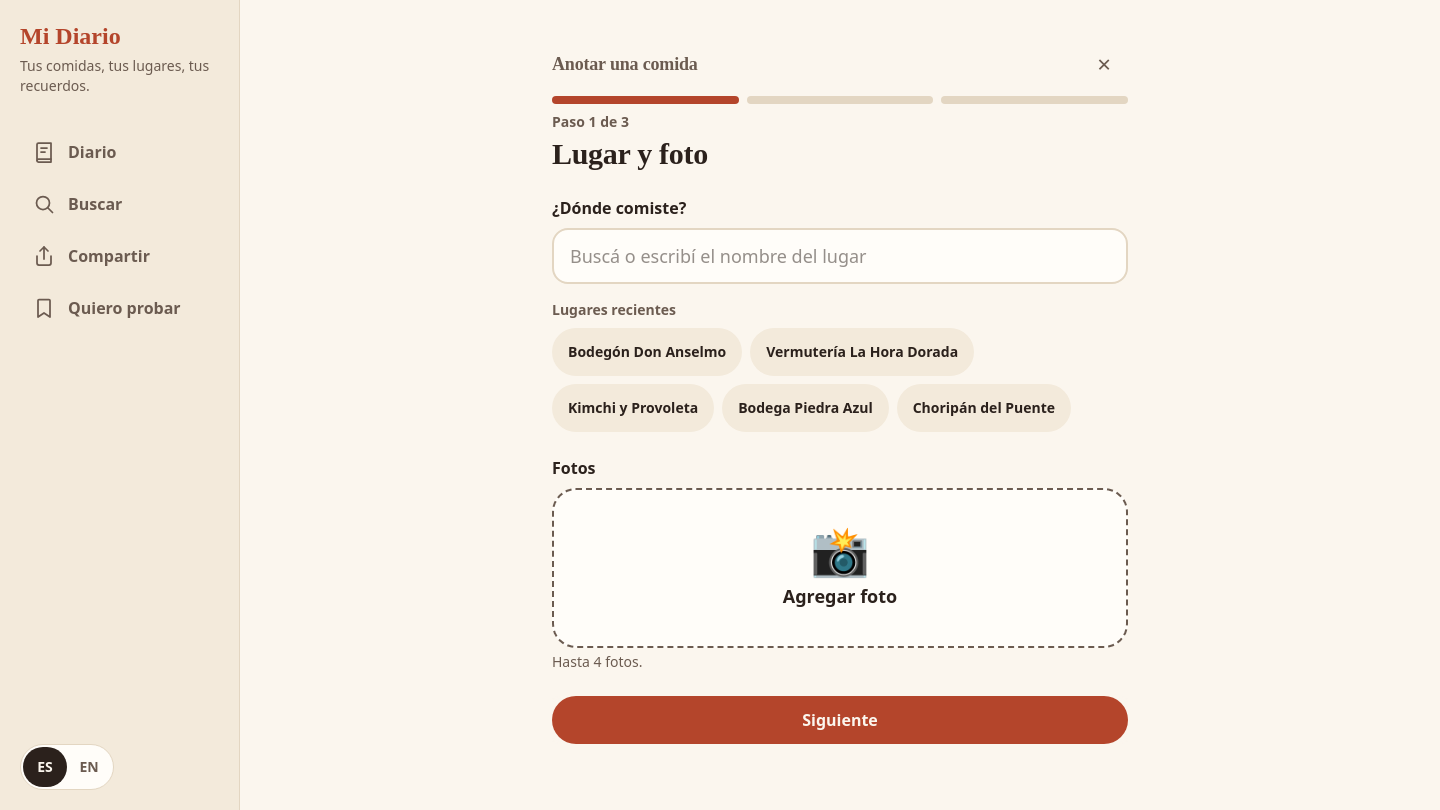
Test: quick log › logs a meal in the minimum number of steps: place, reaction, save
Click the button "Vermutería La Hora Dorada" at (862, 352), box [750,328,974,376]
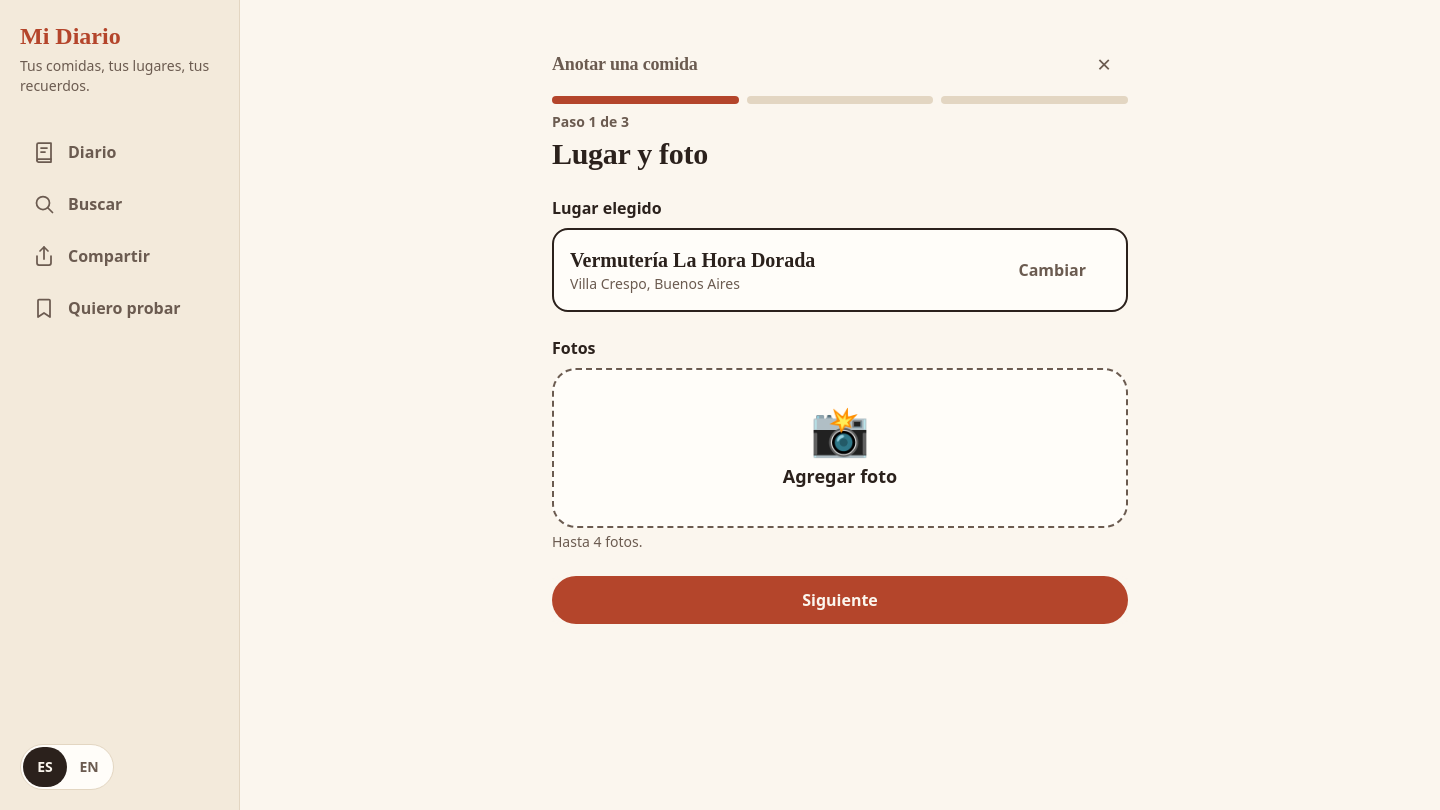
Expected: the text "Lugar elegido" is shown, [552,197,662,219]
Click the button "Siguiente" at (840, 600), box [552,576,1128,624]
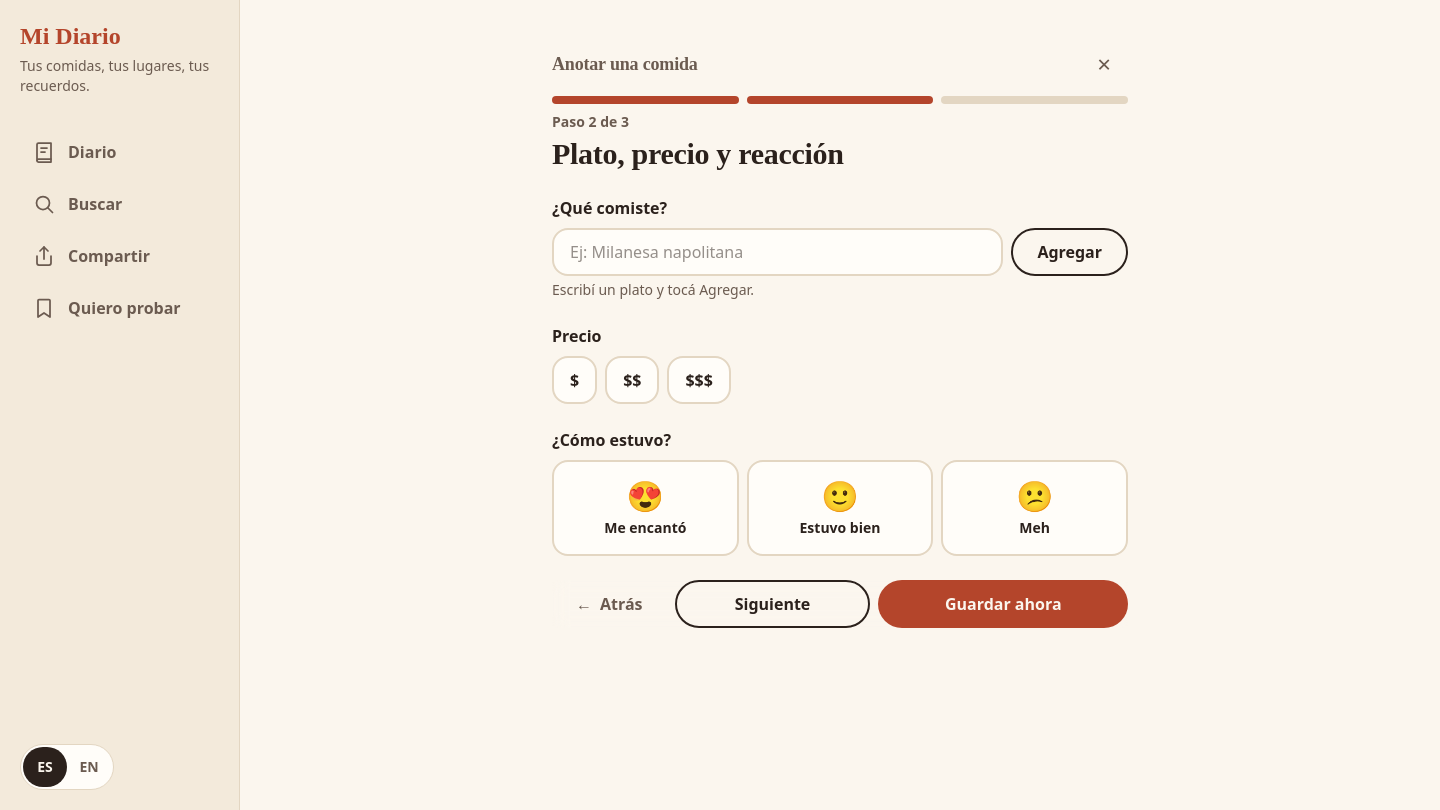
Expected: the heading "Plato, precio y reacción" is shown, [552,137,844,170]
Click the button "😍 Me encantó" at (645, 508), box [552,460,739,556]
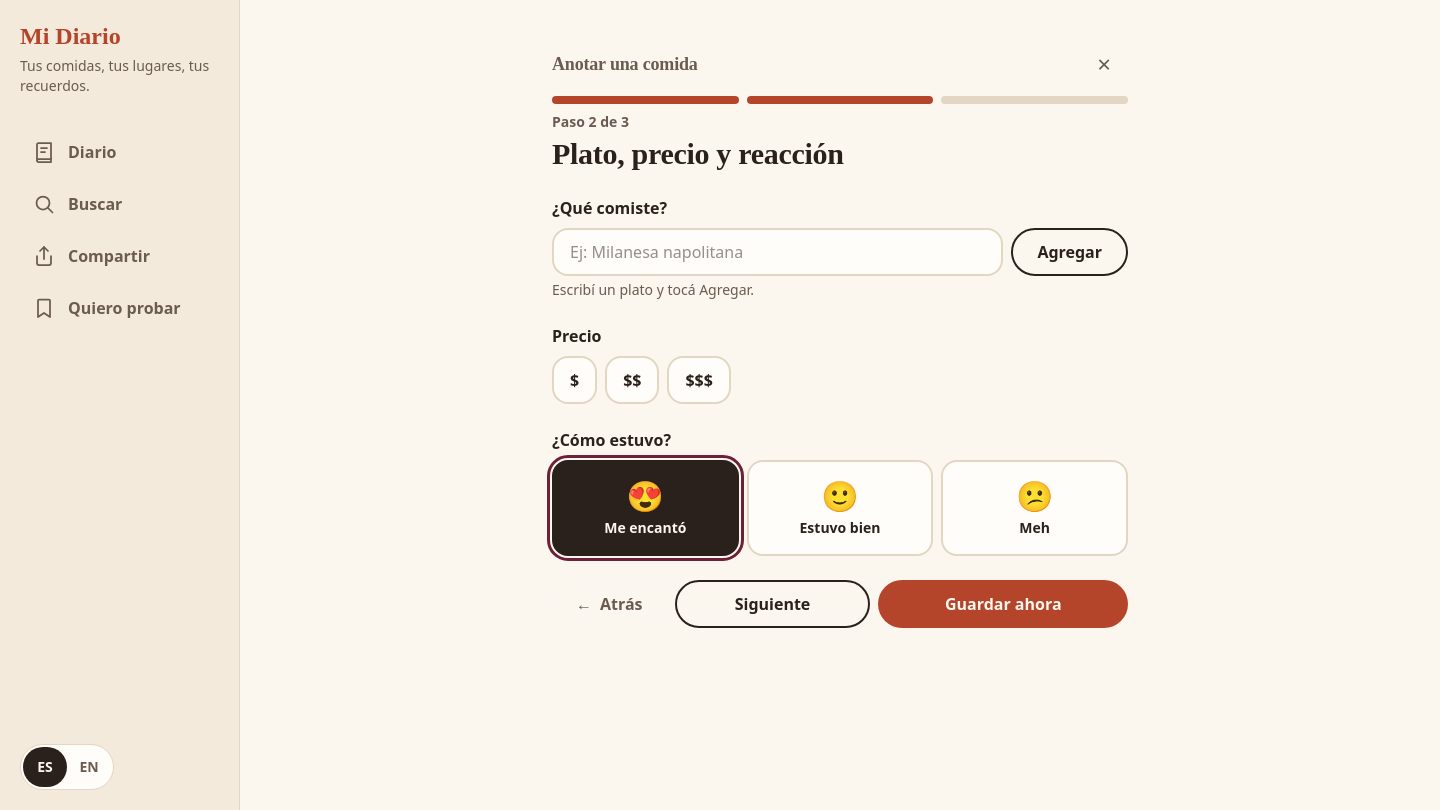
Click the button "Guardar ahora" at (1003, 604), box [878,580,1128,628]
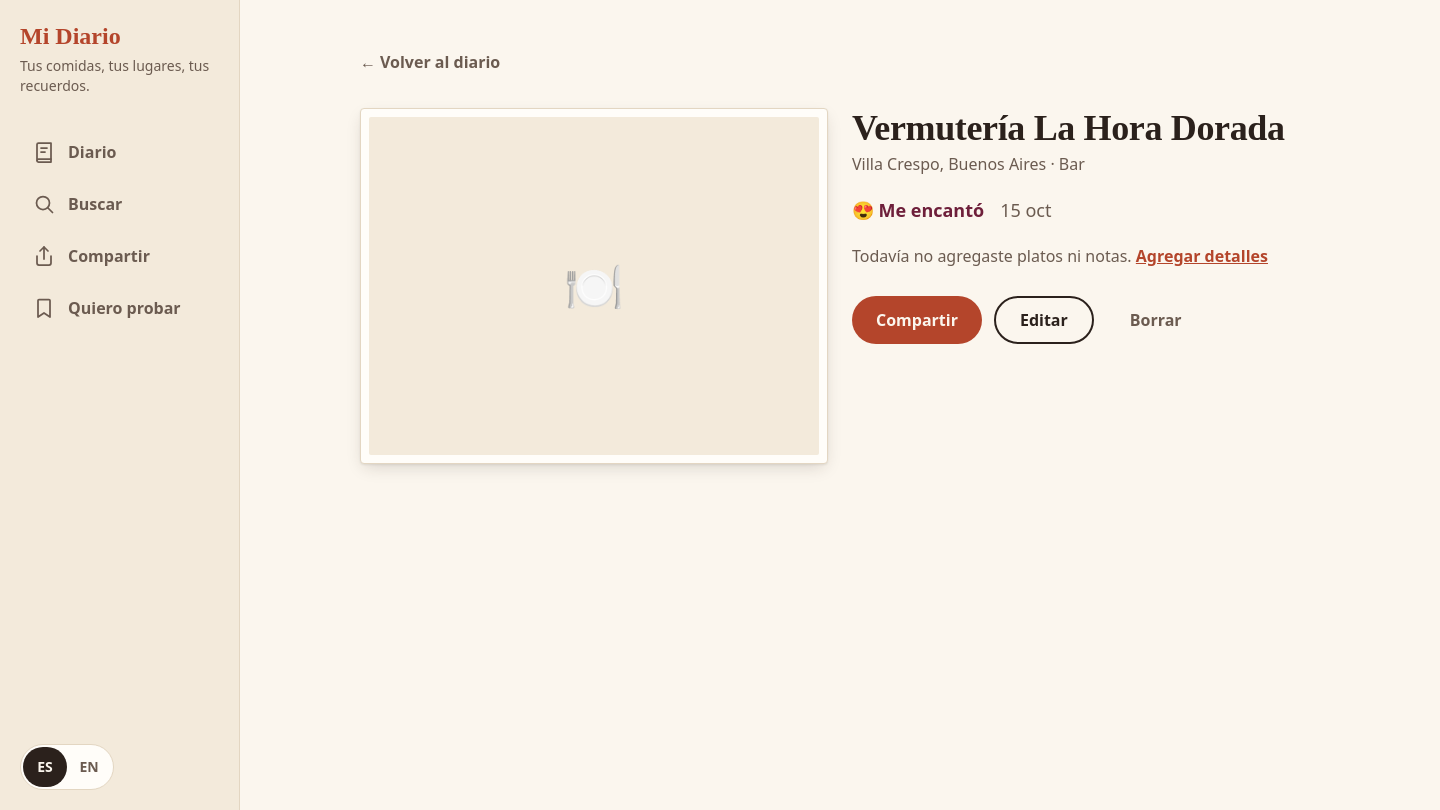
Expected: the heading "Vermutería La Hora Dorada" is shown, [852,108,1320,148]
